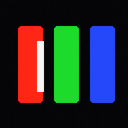4 line_v: (37, 41, 43, 91)
